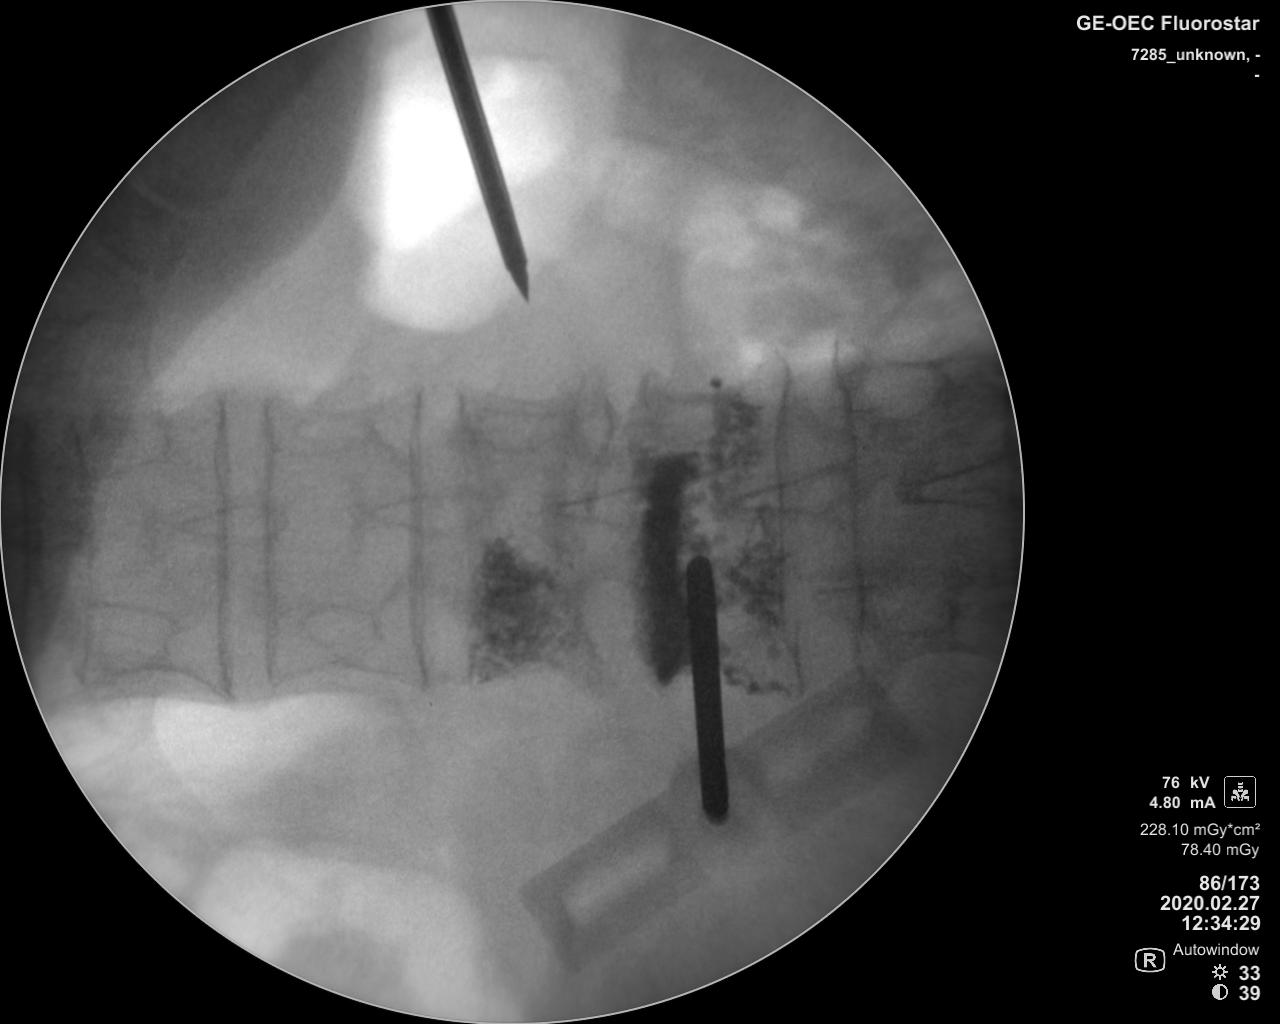eyes: (84, 603, 180, 670), (847, 360, 949, 423), (468, 398, 562, 455), (869, 582, 955, 639), (90, 416, 174, 470), (300, 604, 381, 653)
line: (827, 343, 869, 670), (766, 345, 802, 694), (208, 396, 238, 705), (64, 413, 96, 697), (405, 381, 435, 691), (256, 391, 283, 688)
nose: (891, 461, 1020, 517), (730, 467, 861, 517), (543, 488, 699, 529), (166, 498, 292, 546), (359, 493, 488, 536)
